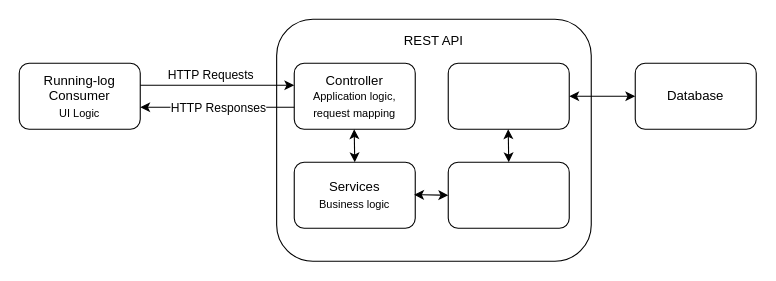
The diagram is 776 pixels wide and 281 high, and some of its shapes have lost their labels. Here are the shapes that lost their labels. From the top down, the centre of each, then its label:
At point 508,95: "Models DAO".
At point 508,194: "Repository DB interactions".
